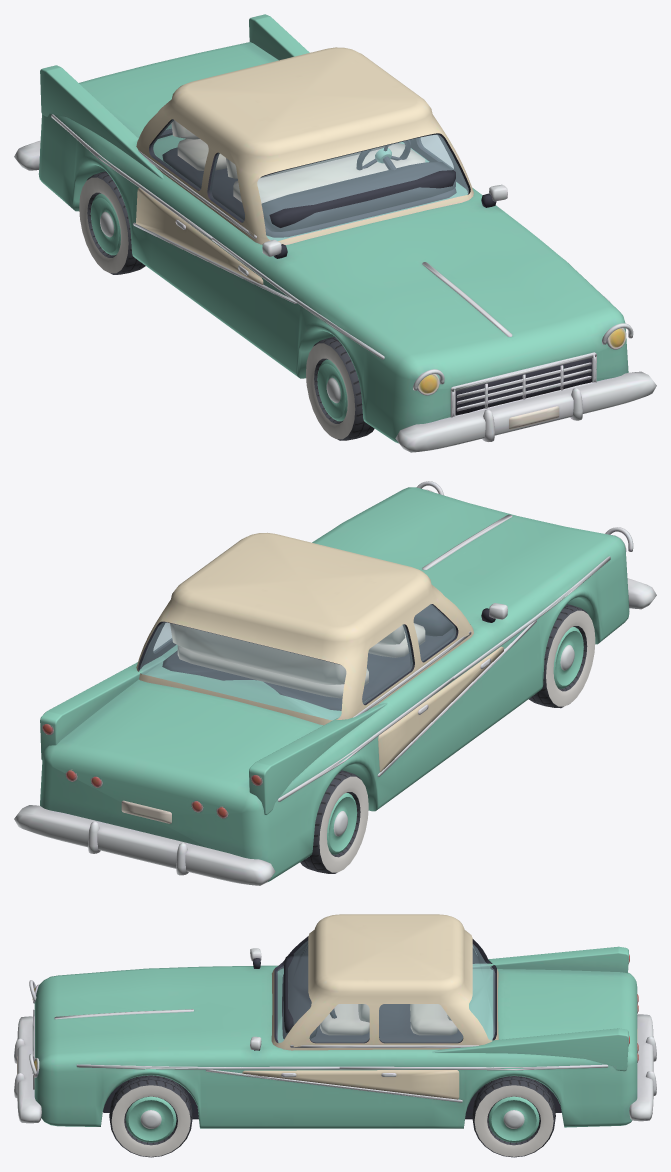
The model's file is 1950s-sedan.glb.
3 renders of one model, top to bottom at view 1: azimuth 30°, elevation 25°; view 2: azimuth 150°, elevation 25°; view 3: azimuth 270°, elevation 25°, orthographic. The views are drawn at different scales.
Visible parts, largest first — view 1: 1950s-sedan_body, 1950s-sedan_windows, 1950s-sedan_wheel_fr, 1950s-sedan_wheel_rr; view 2: 1950s-sedan_body, 1950s-sedan_windows, 1950s-sedan_wheel_rr, 1950s-sedan_wheel_fr; view 3: 1950s-sedan_body, 1950s-sedan_windows, 1950s-sedan_wheel_fl, 1950s-sedan_wheel_rl.
Boxes of the visible parts, bbox=[...] form: 1950s-sedan_body: bbox=[14, 14, 656, 452]; 1950s-sedan_windows: bbox=[151, 119, 468, 240]; 1950s-sedan_wheel_fr: bbox=[306, 337, 374, 440]; 1950s-sedan_wheel_rr: bbox=[79, 171, 145, 274]; 1950s-sedan_body: bbox=[14, 481, 656, 885]; 1950s-sedan_windows: bbox=[140, 604, 455, 719]; 1950s-sedan_wheel_rr: bbox=[300, 770, 368, 873]; 1950s-sedan_wheel_fr: bbox=[529, 604, 595, 708]; 1950s-sedan_body: bbox=[14, 914, 656, 1128]; 1950s-sedan_windows: bbox=[276, 941, 494, 1042]; 1950s-sedan_wheel_fl: bbox=[109, 1075, 192, 1157]; 1950s-sedan_wheel_rl: bbox=[472, 1076, 555, 1157].
Size of the model in its own units: 2.02 by 1.56 by 5.53.
22 materials, 5 textured.
